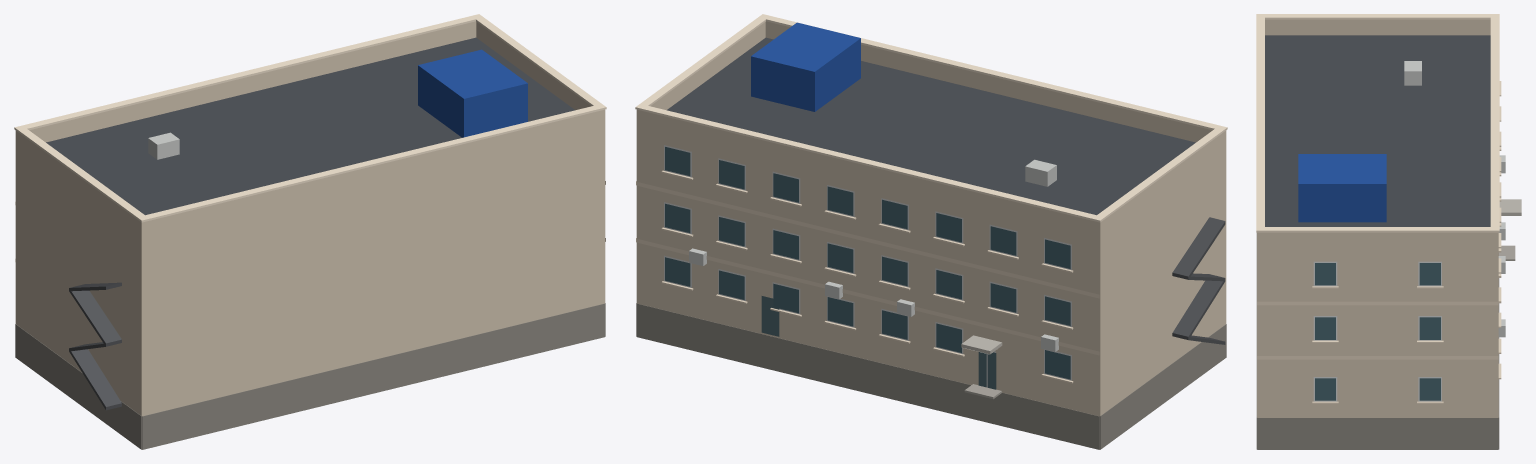
3 views of the same model, side by side, from view 1: azimuth 30°, elevation 25°; view 2: azimuth 150°, elevation 25°; view 3: azimuth 270°, elevation 25° (orthographic). The views are drawn at different scales.
Parts seen in each view (by area): view 1: w451562715__plaster-wall, w451562715__roof, w451562715__foundation-wall, w451562715__coping-stone, w451562715__blue-box-wall, w451562715__steel-dark, w451562715__ac; view 2: w451562715__plaster-wall, w451562715__roof, w451562715__foundation-wall, w451562715__glass, w451562715__coping-stone, w451562715__blue-box-wall, w451562715__band-wall, w451562715__frame, w451562715__steel-dark, w451562715__ac, w451562715__door-glass; view 3: w451562715__plaster-wall, w451562715__roof, w451562715__foundation-wall, w451562715__coping-stone, w451562715__blue-box-wall, w451562715__band-wall, w451562715__glass, w451562715__frame, w451562715__ac, w451562715__canopy-slab.
Boxes of the visible parts, left/top/right/bottom form: w451562715__plaster-wall: left=15, top=21, right=605, bottom=416; w451562715__roof: left=46, top=37, right=574, bottom=215; w451562715__foundation-wall: left=15, top=303, right=605, bottom=449; w451562715__coping-stone: left=14, top=14, right=606, bottom=222; w451562715__blue-box-wall: left=418, top=49, right=527, bottom=137; w451562715__steel-dark: left=69, top=282, right=121, bottom=410; w451562715__ac: left=148, top=132, right=179, bottom=159; w451562715__plaster-wall: left=636, top=21, right=1226, bottom=416; w451562715__roof: left=667, top=37, right=1195, bottom=215; w451562715__foundation-wall: left=636, top=303, right=1226, bottom=449; w451562715__glass: left=665, top=147, right=1070, bottom=379; w451562715__coping-stone: left=635, top=14, right=1227, bottom=222; w451562715__blue-box-wall: left=751, top=22, right=860, bottom=111; w451562715__band-wall: left=636, top=170, right=1099, bottom=383; w451562715__frame: left=664, top=145, right=1071, bottom=387; w451562715__steel-dark: left=1172, top=217, right=1225, bottom=344; w451562715__ac: left=689, top=159, right=1058, bottom=351; w451562715__door-glass: left=761, top=296, right=996, bottom=389; w451562715__plaster-wall: left=1257, top=19, right=1498, bottom=417; w451562715__roof: left=1265, top=35, right=1490, bottom=226; w451562715__foundation-wall: left=1256, top=233, right=1499, bottom=449; w451562715__coping-stone: left=1256, top=14, right=1499, bottom=232; w451562715__blue-box-wall: left=1298, top=154, right=1386, bottom=222; w451562715__band-wall: left=1257, top=81, right=1501, bottom=403; w451562715__glass: left=1315, top=263, right=1440, bottom=400; w451562715__frame: left=1313, top=261, right=1441, bottom=401; w451562715__ac: left=1404, top=61, right=1505, bottom=337; w451562715__canopy-slab: left=1499, top=199, right=1521, bottom=215.
Size of the model in its own units: 30.21 by 15 by 15.04.
